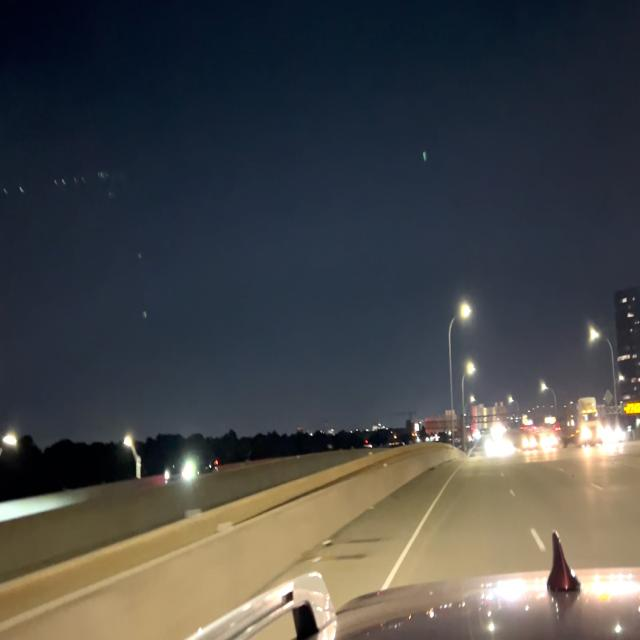back-of-sign: (472, 400, 504, 428), (424, 409, 458, 434)
